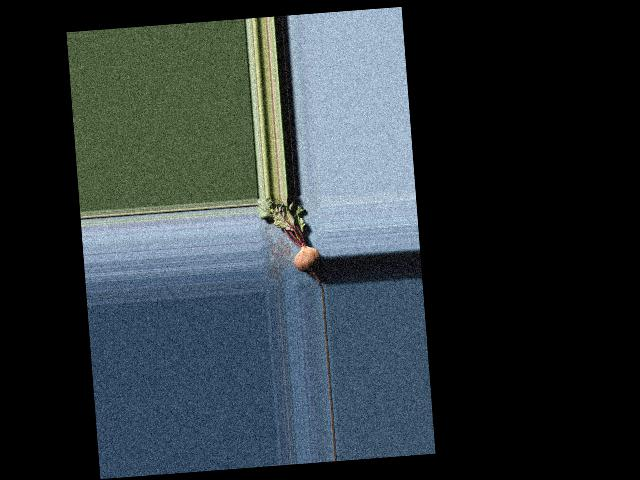beet: (257, 193, 323, 293)
